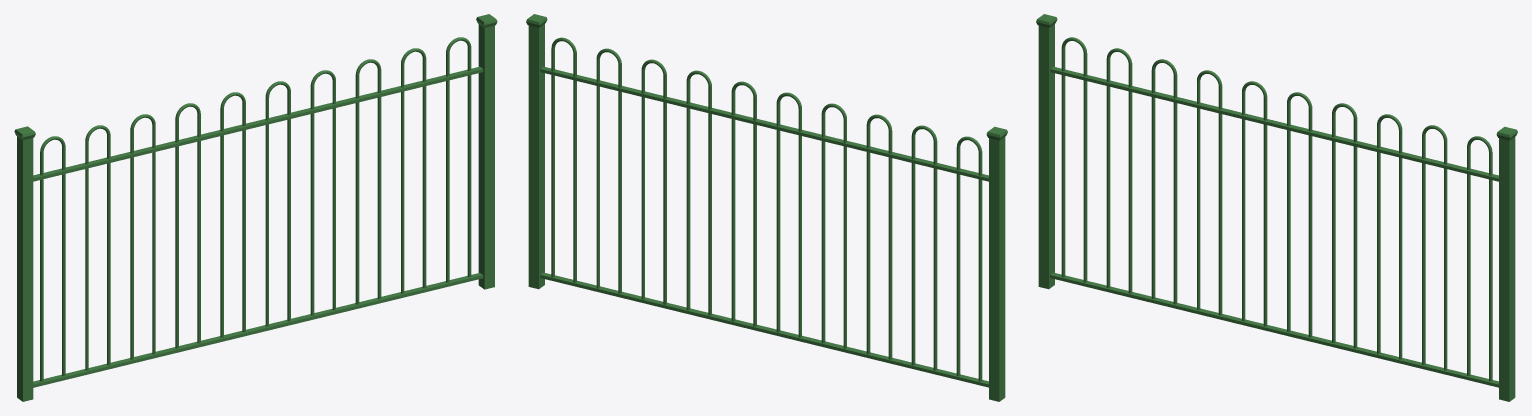
File: gate.glb
3 views of the same model, side by side, from view 1: azimuth 30°, elevation 25°; view 2: azimuth 150°, elevation 25°; view 3: azimuth 330°, elevation 25° (orthographic).
Parts seen in each view (by area): view 1: Fence_01; view 2: Fence_01; view 3: Fence_01.
Part boxes in pixels (bbox=[...]): Fence_01: bbox=[14, 14, 497, 401]; Fence_01: bbox=[526, 14, 1007, 401]; Fence_01: bbox=[1036, 14, 1517, 401].
Size of the model in its own units: 0.2086 by 0.1125 by 0.00623.
